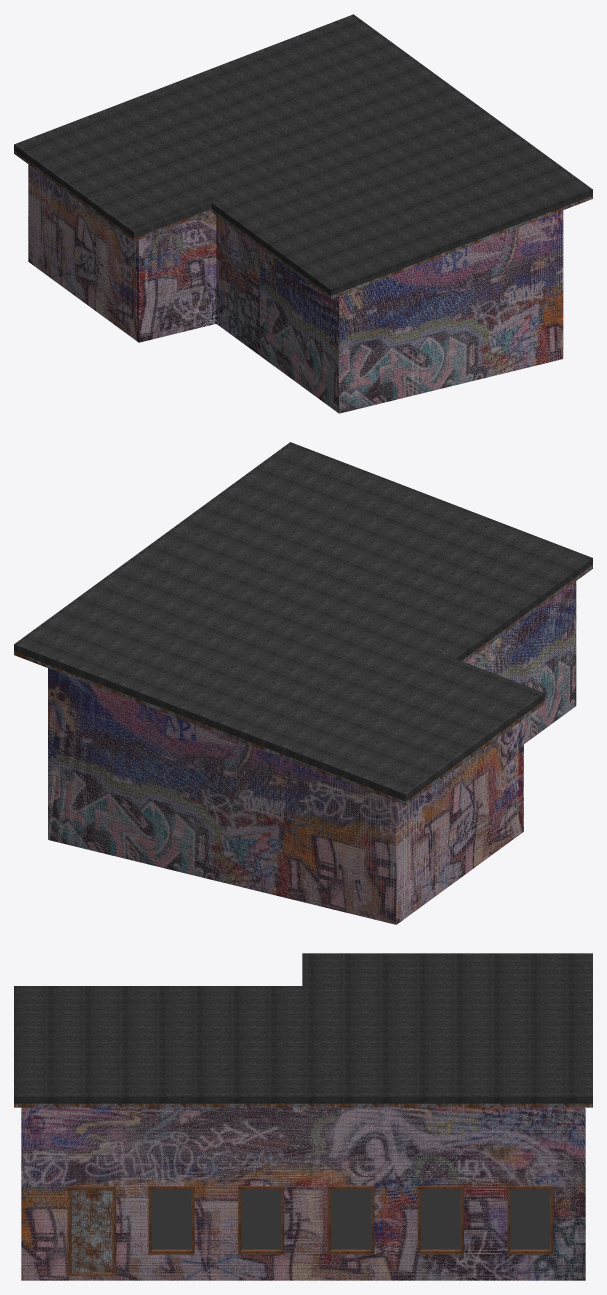
File: Blend Graf Build.fbx
3 renders of one model, top to bottom at view 1: azimuth 30°, elevation 25°; view 2: azimuth 150°, elevation 25°; view 3: azimuth 270°, elevation 25°, orthographic. The views are drawn at different scales.
Parts seen in each view (by area): view 1: Material2, Material3.002, Material2.006, Material2.001; view 2: Material2, Material3.002, Material2.006, Material2.001; view 3: Material3.002, Material2, Material2.006, Material3.001, Material2.001, Material2.009, Material2.011, Material2.015, Material2.017, Material2.013, Material2.004, Material2.012 (+5 smaller).
Boxes of the visible parts, x1,y1,x2,y2 form: Material2: (14, 14, 592, 295); Material3.002: (28, 164, 563, 413); Material2.006: (28, 171, 563, 412); Material2.001: (14, 151, 592, 298); Material2: (14, 442, 592, 801); Material3.002: (48, 581, 576, 924); Material2.006: (48, 582, 576, 924); Material2.001: (14, 565, 592, 804); Material3.002: (21, 1107, 585, 1280); Material2: (14, 953, 592, 1103); Material2.006: (21, 1107, 585, 1280); Material3.001: (71, 1190, 112, 1272); Material2.001: (14, 1103, 592, 1107); Material2.009: (151, 1189, 191, 1249); Material2.011: (241, 1189, 281, 1249); Material2.015: (420, 1189, 460, 1249); Material2.017: (510, 1189, 550, 1249); Material2.013: (331, 1189, 370, 1249); Material2.004: (67, 1186, 116, 1275); Material2.012: (327, 1186, 374, 1254).
Size of the model in its own units: 44383 by 20638 by 54197.
7 materials, 5 textured.
